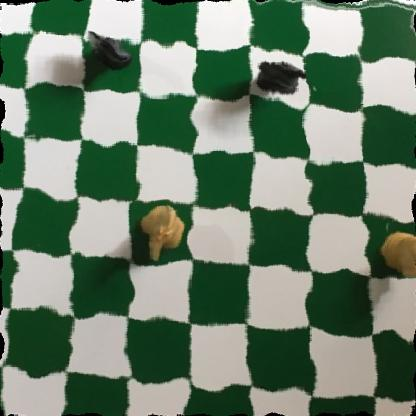black-knight: (82, 26, 135, 83), (252, 57, 312, 101)
white-knight: (135, 204, 188, 258), (377, 224, 416, 285)
